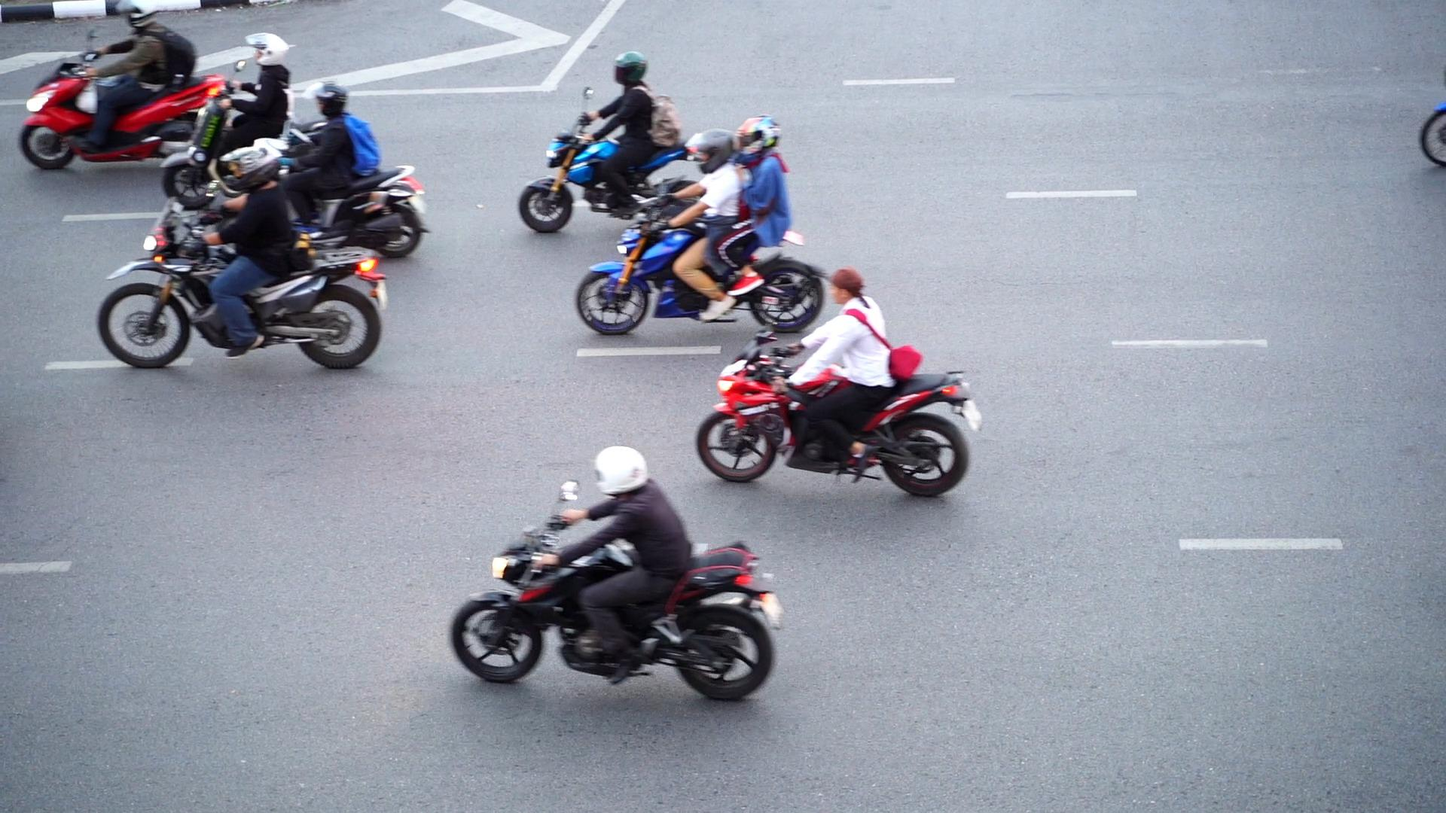driver: (449, 446, 784, 702), (97, 143, 388, 370), (696, 267, 981, 498), (577, 113, 829, 336), (204, 82, 432, 259), (19, 0, 233, 170), (518, 51, 687, 233), (161, 32, 299, 209)
helmet: (593, 446, 649, 496), (219, 147, 280, 191), (684, 129, 734, 174), (734, 113, 782, 156), (302, 82, 348, 116), (244, 33, 289, 67), (114, 0, 158, 29), (613, 51, 647, 85)
no-helmet: (830, 267, 863, 305)
